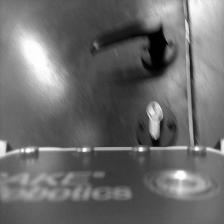Door Handle: (89, 16, 179, 73)
Lock: (135, 100, 178, 146)
